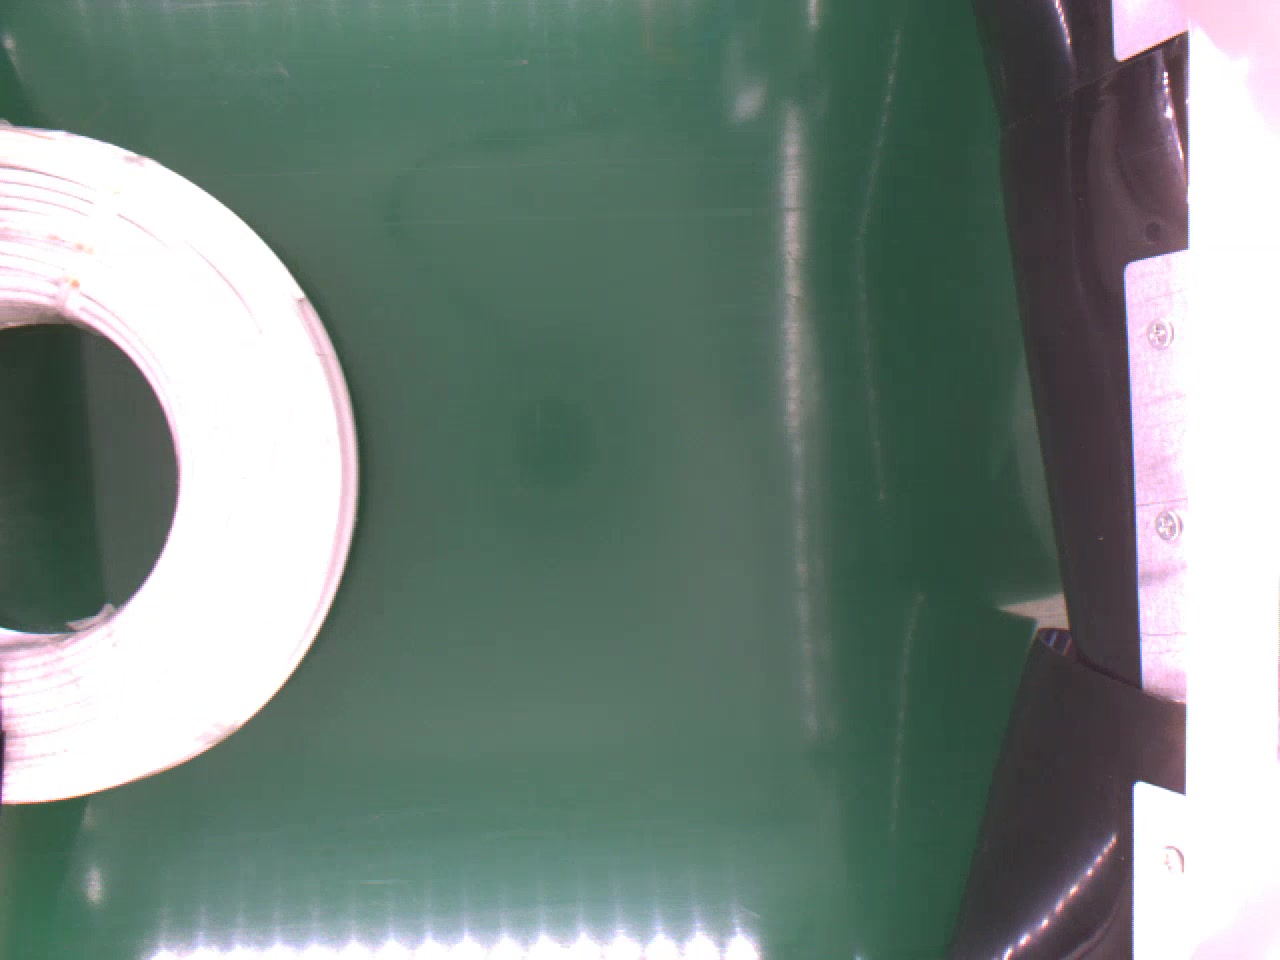white: (0, 114, 360, 804)
